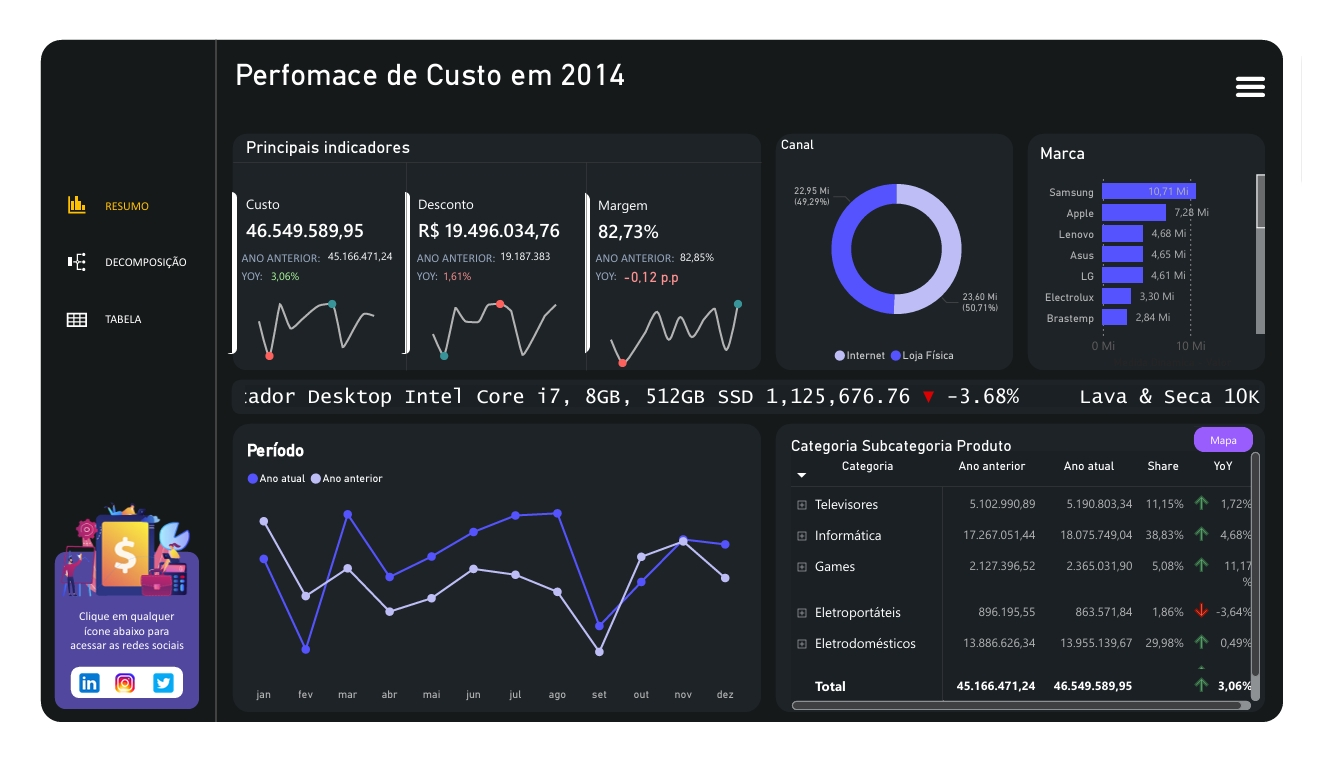

The dashboard page shown, as its layout file describes it:
{"tool":"powerbi","page":{"name":"Resumo","canvas":[1280,720],"ordinal":0},"visuals":[{"type":"multiRowCard","fields":{"Values":["medidas.Medida Dinamica - Valor"]},"box":[219.4,174.1,154.5,55.1],"z":0,"group":"g1"},{"type":"multiRowCard","title":"Desconto","fields":{"Values":["medidas.Desconto"]},"box":[390.6,174.1,154.5,55.1],"z":0,"group":"g2"},{"type":"multiRowCard","title":"Margem","fields":{"Values":["medidas.% Margem"]},"box":[570.9,175.4,154.5,55.1],"z":0,"group":"g3"},{"type":"lineChart","title":"Período","fields":{"Y":["medidas.Medida Dinamica - Valor","medidas.Medida Dinamica - Valor LY"],"Category":["dim_calendario.Nome do Mes"]},"box":[219.5,418.8,505.8,267.8],"z":0},{"type":"donutChart","title":"Canal","fields":{"Y":["medidas.Medida Dinamica - Valor"],"Category":["dim_canal.Descricao_Canal"]},"box":[753.5,116.5,241.8,236.5],"z":1000},{"type":"multiRowCard","fields":{"Values":["medidas.Medida Dinamica - Valor LY"]},"box":[301.2,222.3,84.7,30.6],"z":1000,"group":"g1"},{"type":"multiRowCard","fields":{"Values":["medidas.Desconto LY"]},"box":[472.4,222.3,84.7,30.6],"z":1000,"group":"g2"},{"type":"multiRowCard","fields":{"Values":["medidas.% Margem LY"]},"box":[652.7,223.6,84.7,30.6],"z":1000,"group":"g3"},{"type":"clusteredBarChart","title":"Marca","fields":{"Y":["medidas.Medida Dinamica - Valor"],"Category":["dim_marca.Marca"]},"box":[1013.3,122,235,230],"z":2000},{"type":"multiRowCard","fields":{"Values":["medidas.Medida Dinamica - YoY"]},"box":[244.8,242.4,89,30.3],"z":2000,"group":"g1"},{"type":"multiRowCard","fields":{"Values":["medidas.% YoY Desconto"]},"box":[416,242.4,89,30.3],"z":2000,"group":"g2"},{"type":"multiRowCard","fields":{"Values":["medidas.% YoY % Margem"]},"box":[596.3,243.7,89,30.3],"z":2000,"group":"g3"},{"type":"group","id":"g1","title":"Grupo 1","box":[219.4,174.1,166.5,98.6],"z":4000},{"type":"group","id":"g2","title":"Grupo 1","box":[390.6,174.1,166.5,98.6],"z":5000},{"type":"group","id":"g3","title":"Grupo 1","box":[570.9,175.4,166.5,98.6],"z":6000},{"type":"PBI_CV_25997FEB_F466_44FA_B562_AC4063283C4C","title":"Sparkline  medida dinamica","fields":{"axis":["dim_calendario.Nome do Mes"],"measure":["medidas.Medida Dinamica - Valor"]},"box":[218.8,266.2,155,80],"z":7000},{"type":"PBI_CV_25997FEB_F466_44FA_B562_AC4063283C4C","title":"Sparkline Desconto","fields":{"axis":["dim_calendario.Nome do Mes"],"measure":["medidas.Desconto"]},"box":[392.5,266.2,163.8,80],"z":8000},{"type":"PBI_CV_25997FEB_F466_44FA_B562_AC4063283C4C","title":"Sparkline Margem","fields":{"axis":["dim_calendario.Nome do Mes"],"measure":["medidas.% Margem"]},"box":[571.2,266.2,166.2,86.2],"z":9000},{"type":"textbox","title":"Principais indicadores","box":[218.8,116.5,507.6,21.2],"z":10000},{"type":"ScrollingTextVisual1448795304508","fields":{"Category":["dim_produto.Descricao_Produto"],"Measure Absolute":["medidas.Medida Dinamica - Valor"],"Measure Deviation":["medidas.Medida Dinamica - YoY"]},"box":[219.2,360,1023.8,32.3],"z":11000},{"type":"pivotTable","fields":{"Rows":["dim_categoria.Categoria","dim_subcategoria.Subcategoria","dim_produto.Descricao_Produto"],"Values":["medidas.Medida Dinamica - Valor LY","medidas.Medida Dinamica - Valor","medidas.Medida Dinamica - Share","medidas.Medida Dinamica - YoY"]},"box":[764.6,426.3,478.9,267.4],"z":12000},{"type":"textbox","title":"Categoria Subcategoria Produto","box":[764.2,415,270.8,22.5],"z":13000},{"type":"actionButton","title":"btn_mapa","box":[1171.6,406.1,59.3,25.1],"z":14000},{"type":"textbox","box":[208.1,35.8,665.9,65],"z":16000},{"type":"actionButton","title":"btn_filtro_abrir","box":[1209.2,47.5,39.2,36.7],"z":18000},{"type":"actionButton","title":"btn_menu_decomposicao","box":[39.2,223.1,142.3,36.2],"z":20000},{"type":"actionButton","title":"btn_menu_tabela","box":[39.5,281,142.2,34.2],"z":21000}]}

Visuals, with their boxes on the page's 1280x720 design canvas (x1, y1, x2, y2). These are canvas units, not pixel positions in the 1324x763 screenshot, which may show the page scaled, cropped or inside an application window:
multiRowCard - medidas.Medida Dinamica - Valor: left=219, top=174, right=374, bottom=229
"Desconto" multiRowCard: left=391, top=174, right=545, bottom=229
"Margem" multiRowCard: left=571, top=175, right=725, bottom=230
"Período" lineChart: left=220, top=419, right=725, bottom=687
"Canal" donutChart: left=754, top=116, right=995, bottom=353
multiRowCard - medidas.Medida Dinamica - Valor LY: left=301, top=222, right=386, bottom=253
multiRowCard - medidas.Desconto LY: left=472, top=222, right=557, bottom=253
multiRowCard - medidas.% Margem LY: left=653, top=224, right=737, bottom=254
"Marca" clusteredBarChart: left=1013, top=122, right=1248, bottom=352
multiRowCard - medidas.Medida Dinamica - YoY: left=245, top=242, right=334, bottom=273
multiRowCard - medidas.% YoY Desconto: left=416, top=242, right=505, bottom=273
multiRowCard - medidas.% YoY % Margem: left=596, top=244, right=685, bottom=274
"Grupo 1" group: left=219, top=174, right=386, bottom=273
"Grupo 1" group: left=391, top=174, right=557, bottom=273
"Grupo 1" group: left=571, top=175, right=737, bottom=274
"Sparkline  medida dinamica" PBI_CV_25997FEB_F466_44FA_B562_AC4063283C4C: left=219, top=266, right=374, bottom=346
"Sparkline Desconto" PBI_CV_25997FEB_F466_44FA_B562_AC4063283C4C: left=392, top=266, right=556, bottom=346
"Sparkline Margem" PBI_CV_25997FEB_F466_44FA_B562_AC4063283C4C: left=571, top=266, right=737, bottom=352
"Principais indicadores" textbox: left=219, top=116, right=726, bottom=138
ScrollingTextVisual1448795304508 - dim_produto.Descricao_Produto x medidas.Medida Dinamica - Valor: left=219, top=360, right=1243, bottom=392
pivotTable - dim_categoria.Categoria x dim_subcategoria.Subcategoria: left=765, top=426, right=1244, bottom=694
"Categoria Subcategoria Produto" textbox: left=764, top=415, right=1035, bottom=438
"btn_mapa" actionButton: left=1172, top=406, right=1231, bottom=431
textbox: left=208, top=36, right=874, bottom=101
"btn_filtro_abrir" actionButton: left=1209, top=48, right=1248, bottom=84
"btn_menu_decomposicao" actionButton: left=39, top=223, right=182, bottom=259
"btn_menu_tabela" actionButton: left=40, top=281, right=182, bottom=315
